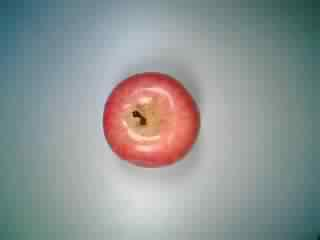apple: (99, 69, 204, 171)
